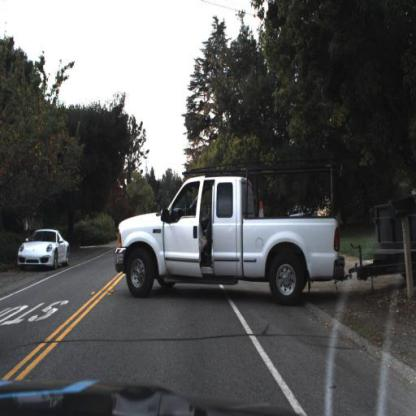car: (14, 226, 71, 271)
truck: (102, 164, 416, 300)
